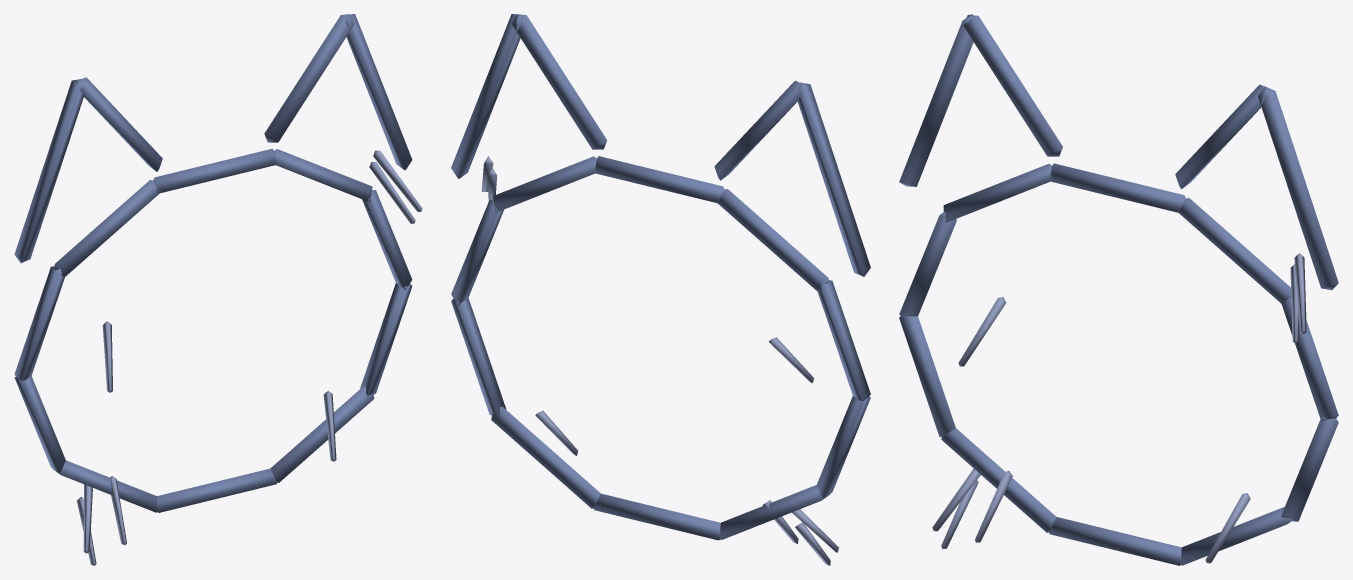
File: couch_scratch.glb
The picture shows the model from 3 angles, left to right: view 1: azimuth 30°, elevation 25°; view 2: azimuth 150°, elevation 25°; view 3: azimuth 330°, elevation 25°; orthographic projection. The views are drawn at different scales.
Visible parts, largest first — view 1: couch_scratch; view 2: couch_scratch; view 3: couch_scratch.
Boxes of the visible parts, x1,y1,x2,y2 form: couch_scratch: (14, 14, 422, 565); couch_scratch: (451, 14, 870, 565); couch_scratch: (899, 14, 1338, 565).
Size of the model in its own units: 0.1031 by 0.1178 by 0.0115.
